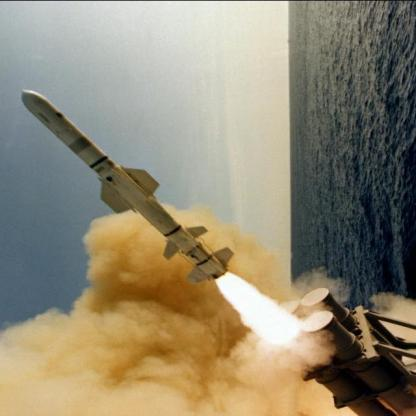MIL_TBM: (6, 84, 240, 298)
